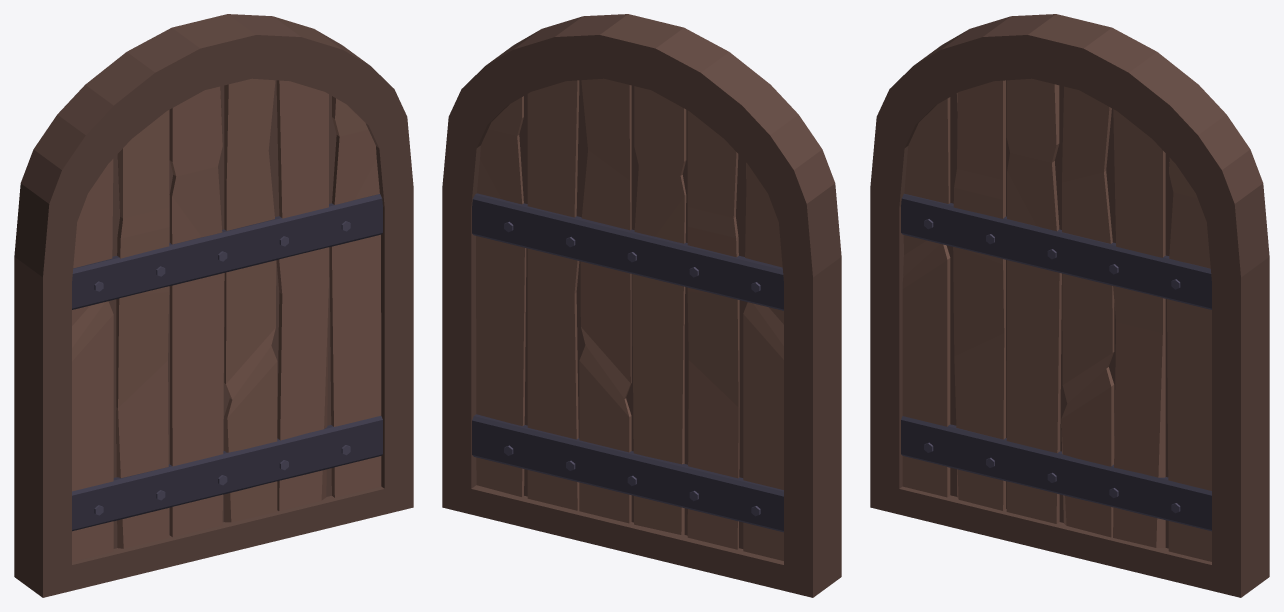
The model's file is Dungeon_Arch_Door.glb.
3 renders of one model, left to right at view 1: azimuth 30°, elevation 25°; view 2: azimuth 150°, elevation 25°; view 3: azimuth 330°, elevation 25°, orthographic.
Visible parts, largest first — view 1: Arch_Door; view 2: Arch_Door; view 3: Arch_Door.
Part boxes in pixels (left/top/right/bottom): Arch_Door: left=14, top=14, right=413, bottom=597; Arch_Door: left=442, top=14, right=841, bottom=597; Arch_Door: left=870, top=14, right=1269, bottom=597.
Size of the model in its own units: 2.42 by 3.19 by 0.3295.
